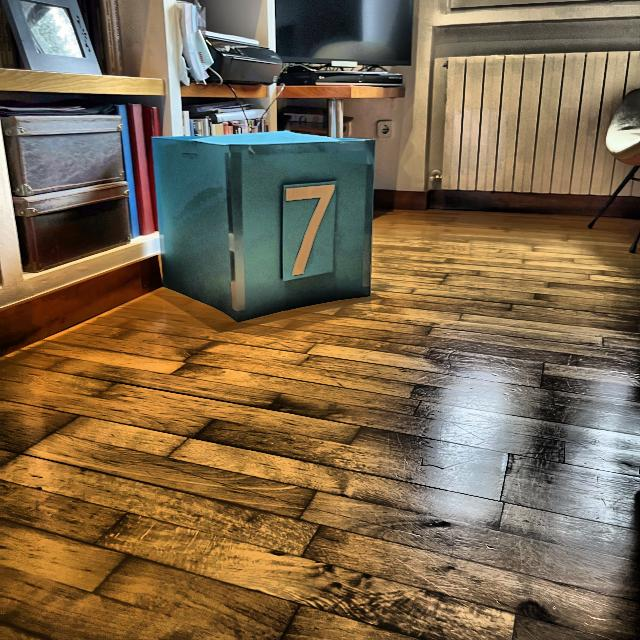blue box: (150, 132, 374, 323)
seven: (282, 184, 338, 278)
